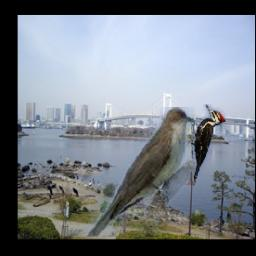Cuckoo: (85, 107, 196, 237)
Woodpecker: (192, 104, 226, 187)
